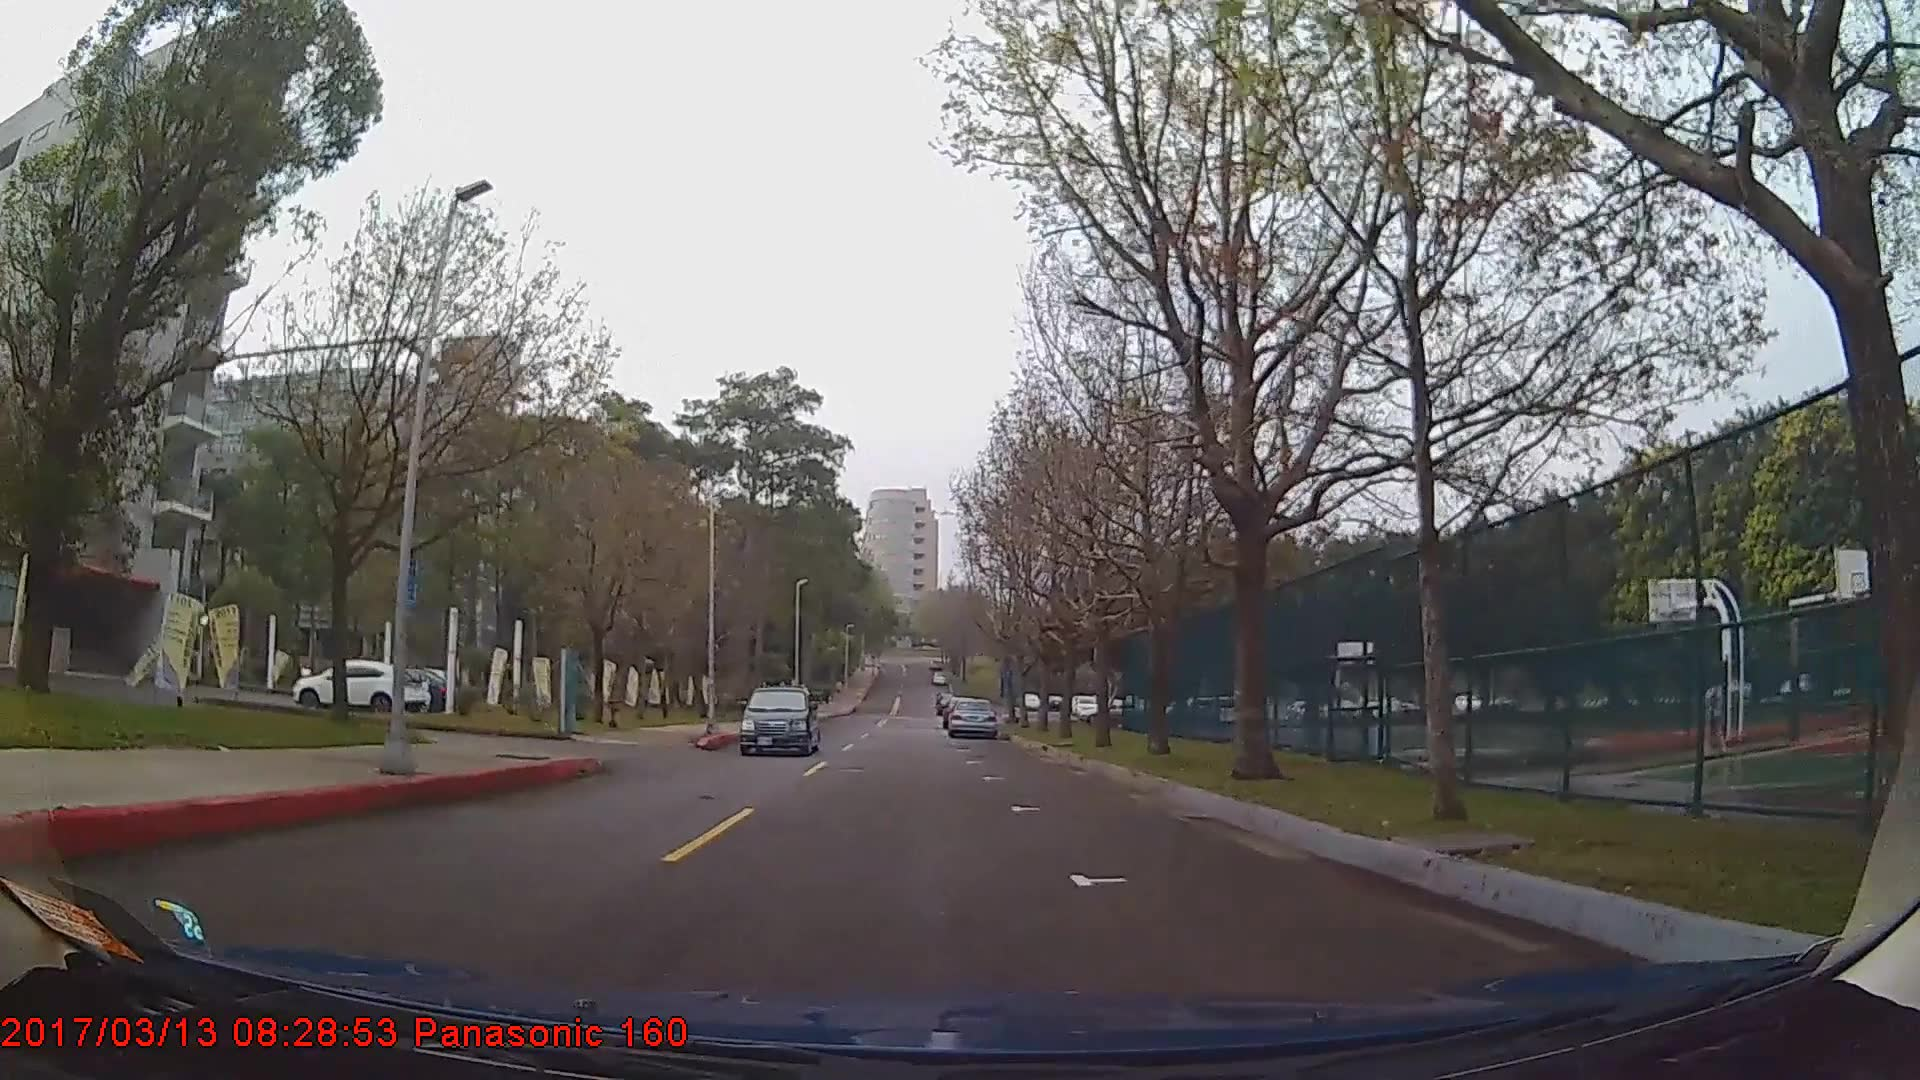vehicle: (290, 655, 427, 713), (738, 686, 822, 758), (947, 699, 997, 742)
